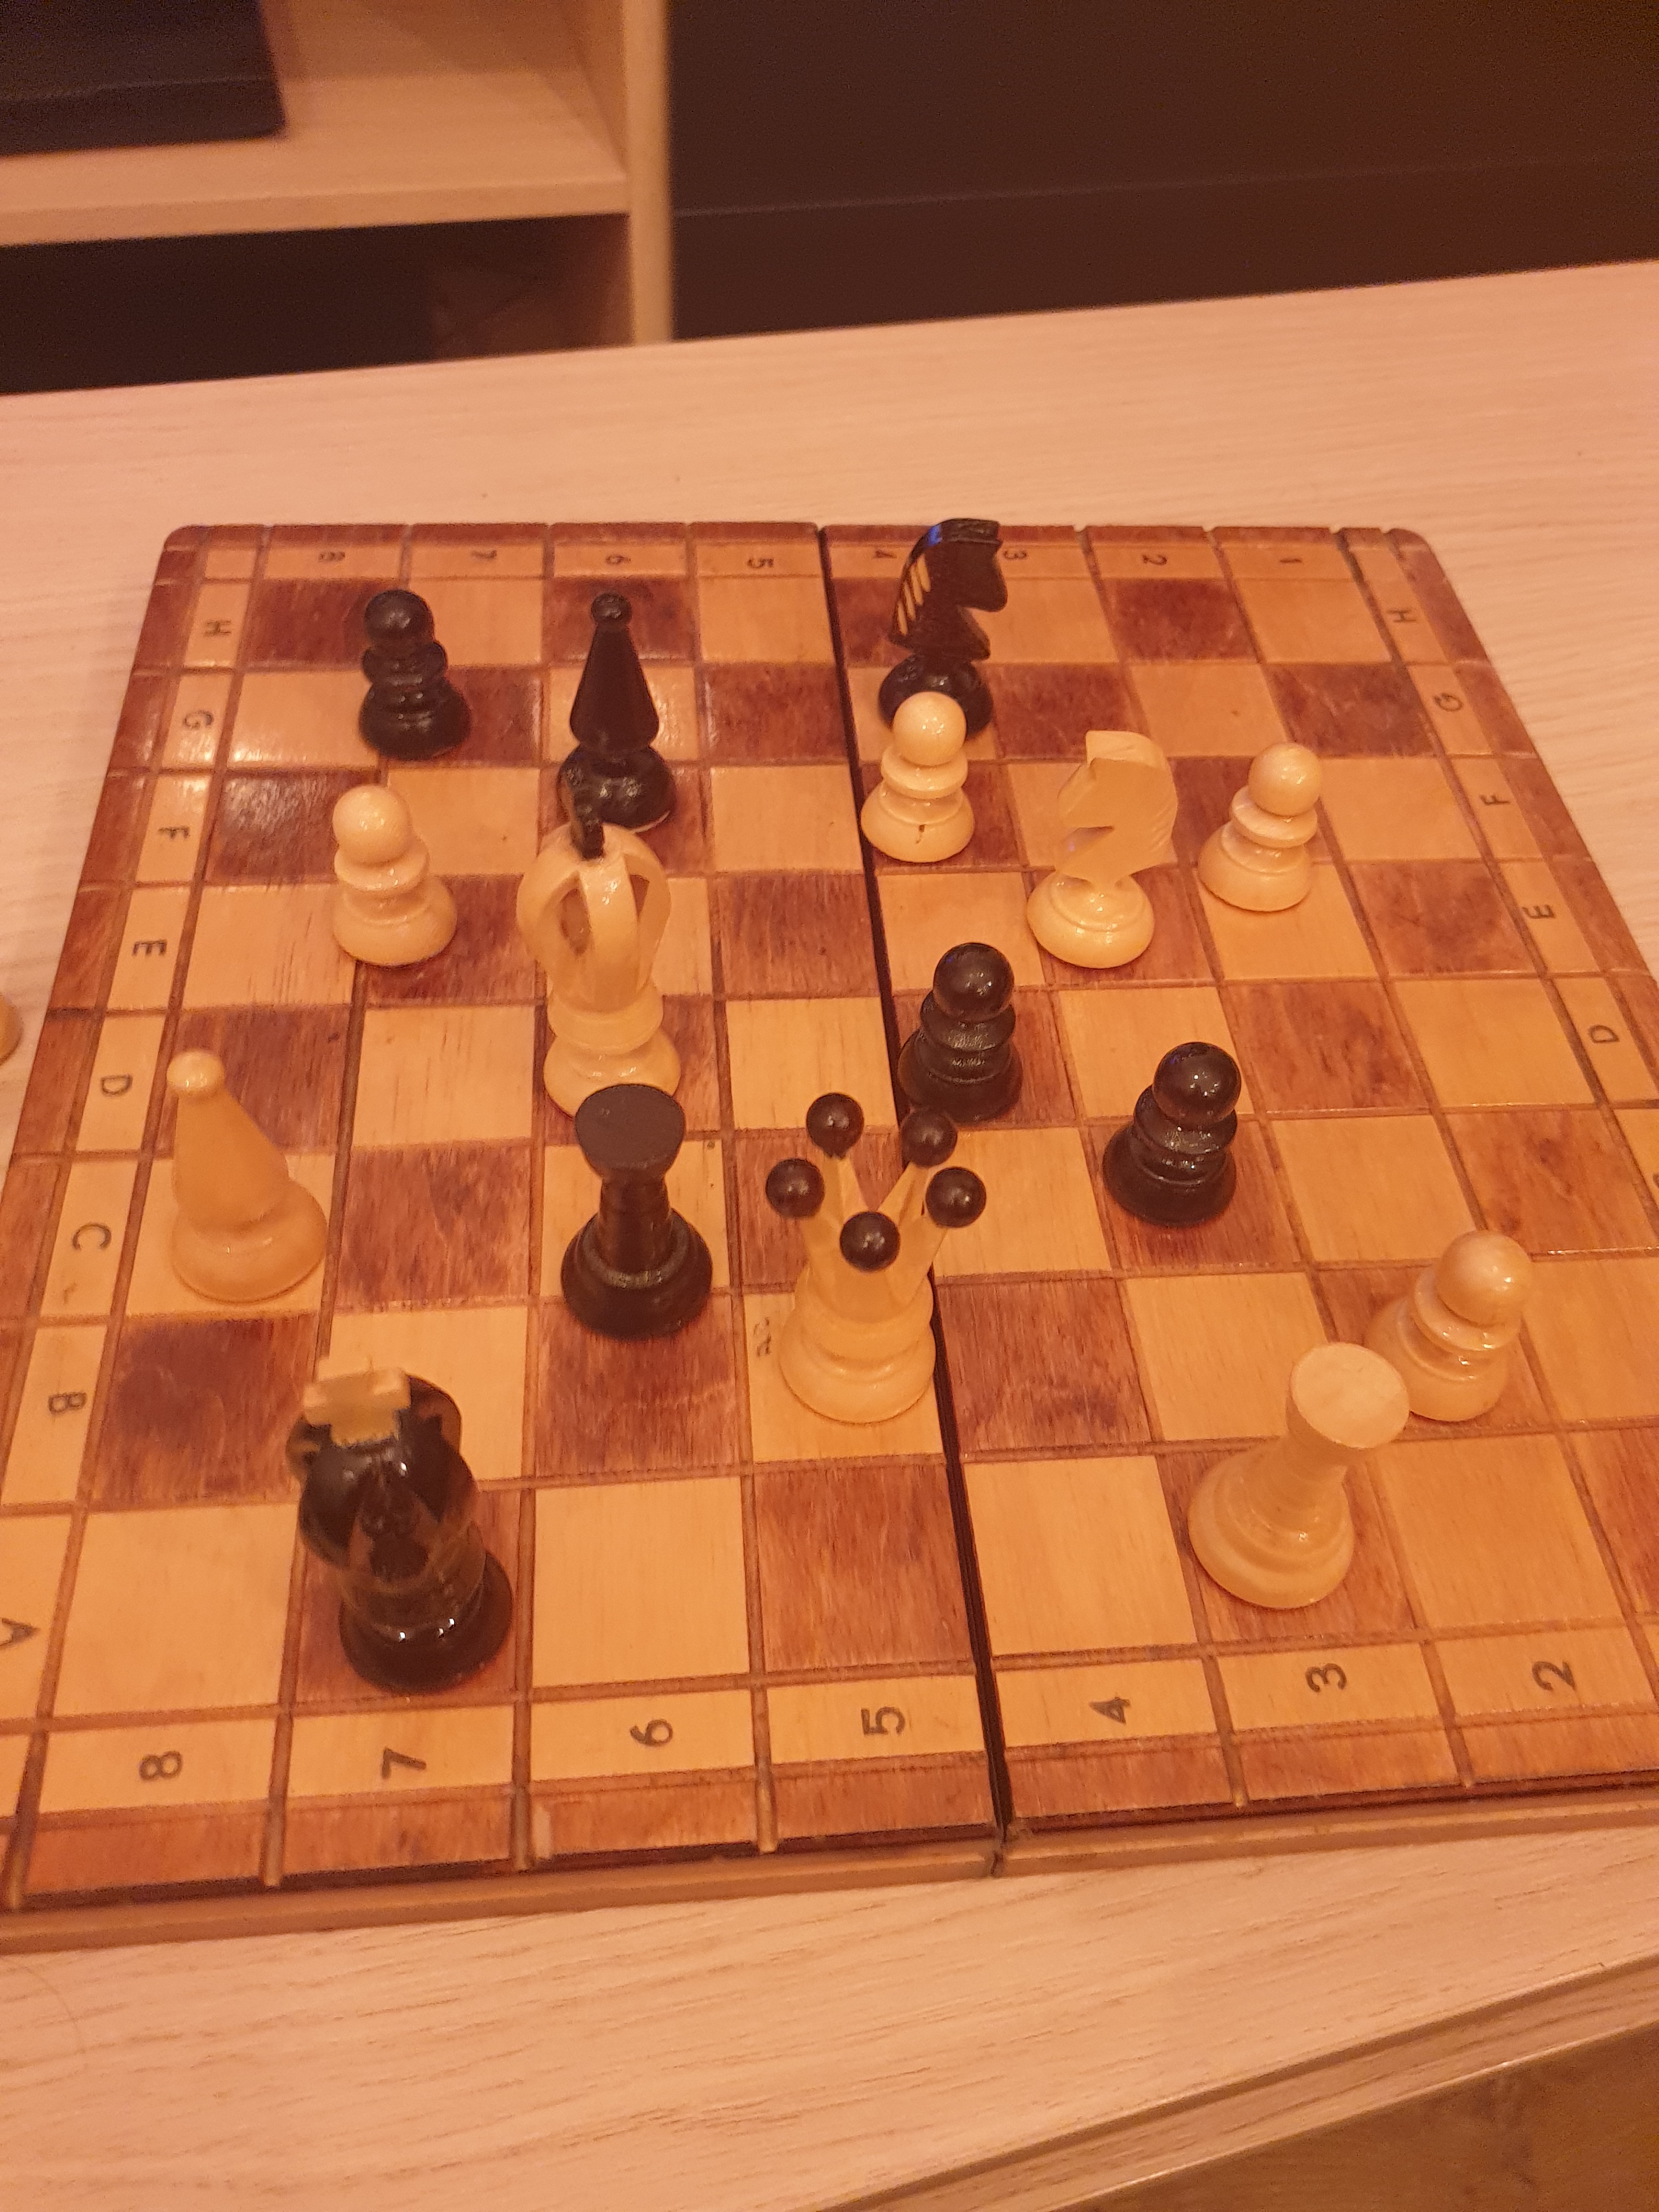bbishop: (537, 589, 702, 859)
bking: (267, 1338, 542, 1719)
bknight: (866, 498, 1014, 754)
bpawn: (1094, 1028, 1251, 1240), (877, 932, 1037, 1136), (349, 577, 479, 770)
brook: (547, 1078, 728, 1346)
wbishop: (132, 1038, 352, 1310)
wking: (500, 752, 723, 1141)
wknight: (1026, 712, 1185, 988)
wpawn: (1349, 1211, 1544, 1444), (312, 772, 479, 984), (1182, 726, 1344, 937), (843, 679, 999, 888)
wqueen: (753, 1082, 999, 1449)
wrook: (1178, 1338, 1415, 1625)
